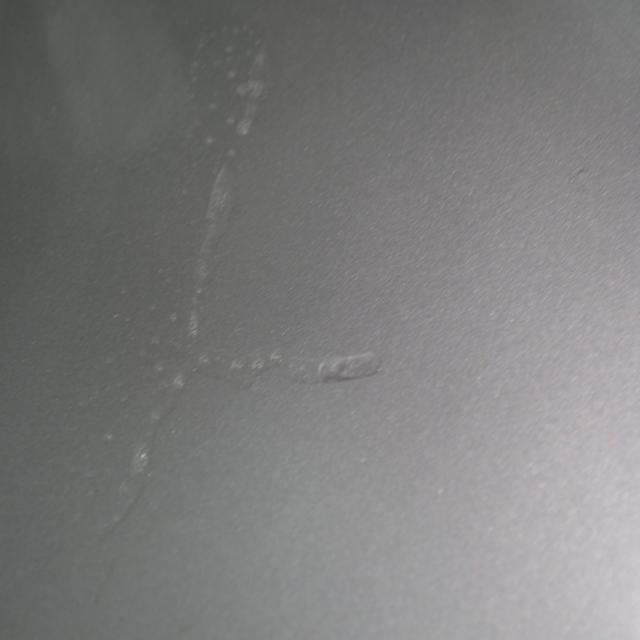runs: (94, 16, 381, 527)
